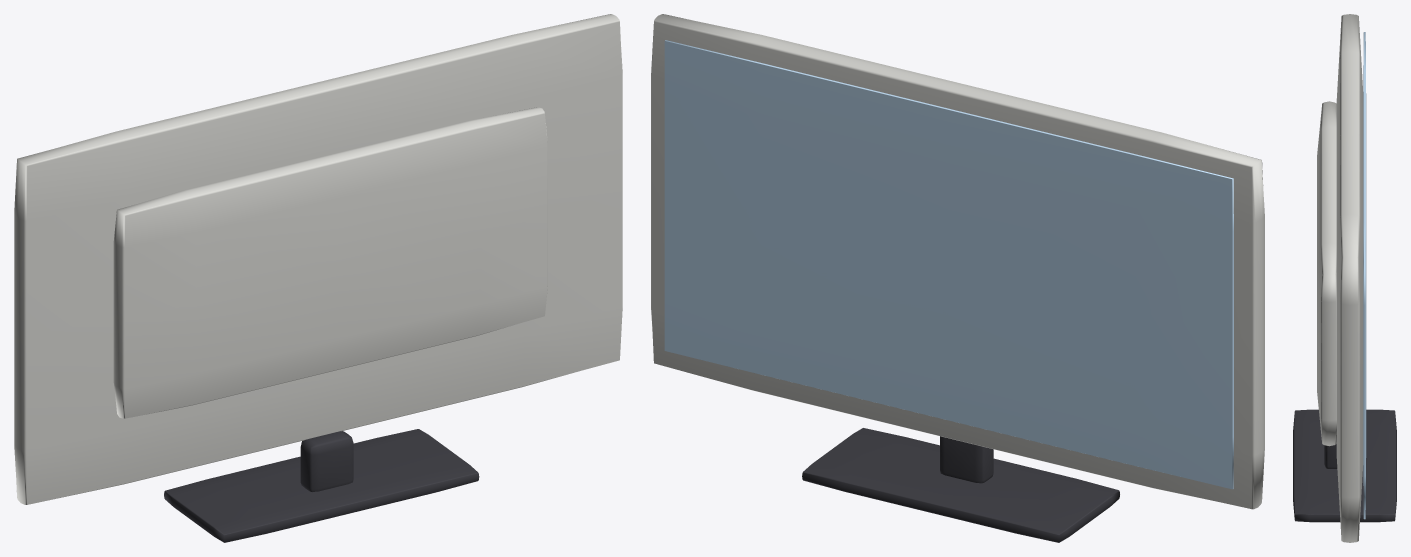
Rendered from BigBadVacuumTV.obj.
The picture shows the model from 3 angles, left to right: view 1: azimuth 30°, elevation 25°; view 2: azimuth 150°, elevation 25°; view 3: azimuth 270°, elevation 25°; orthographic projection. The views are drawn at different scales.
Parts seen in each view (by area): view 1: Frame, Stand; view 2: Screen, Frame, Stand; view 3: Frame, Stand, Screen.
Part boxes in pixels (x1=…): Frame: x1=14, y1=14, x2=622, y2=504; Stand: x1=164, y1=429, x2=479, y2=542; Screen: x1=664, y1=40, x2=1233, y2=489; Frame: x1=651, y1=14, x2=1264, y2=509; Stand: x1=802, y1=428, x2=1119, y2=542; Frame: x1=1317, y1=14, x2=1363, y2=542; Stand: x1=1293, y1=409, x2=1396, y2=522; Screen: x1=1363, y1=32, x2=1366, y2=519.
Size of the model in its own units: 56 by 36 by 10.
